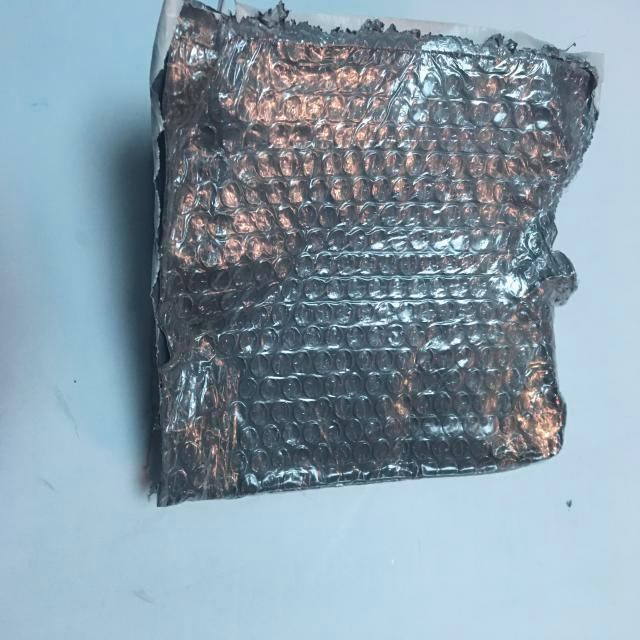plastic: (121, 0, 618, 552)
